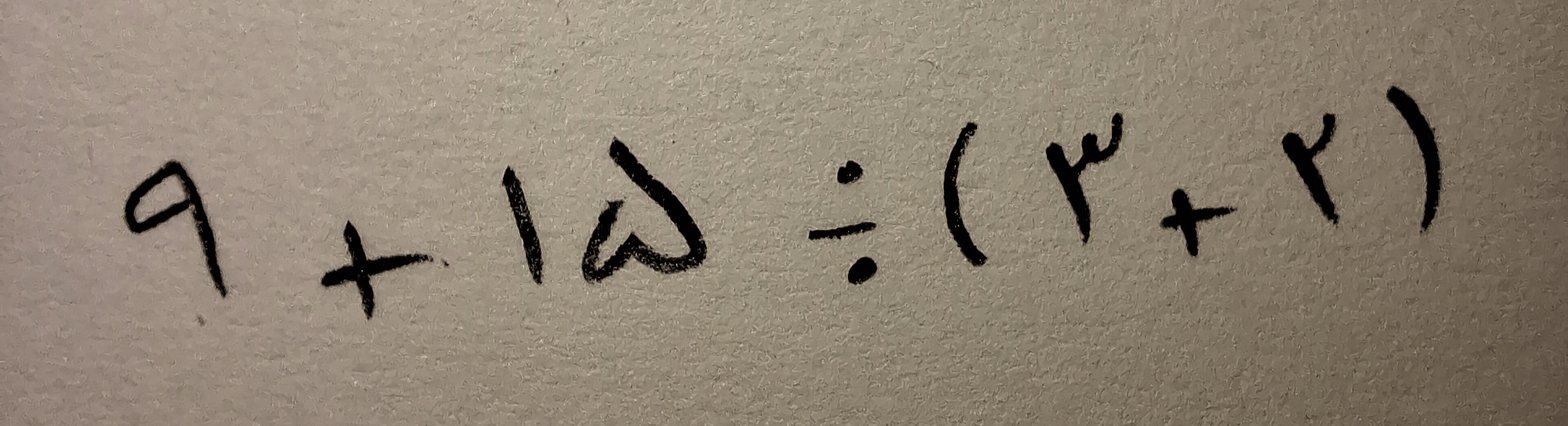character: (582, 136, 708, 282), (126, 161, 227, 300), (321, 219, 435, 318), (1044, 114, 1126, 250), (1386, 84, 1443, 232), (810, 161, 873, 283), (1283, 114, 1345, 231), (943, 123, 980, 272), (1160, 190, 1234, 260), (501, 164, 543, 284)
